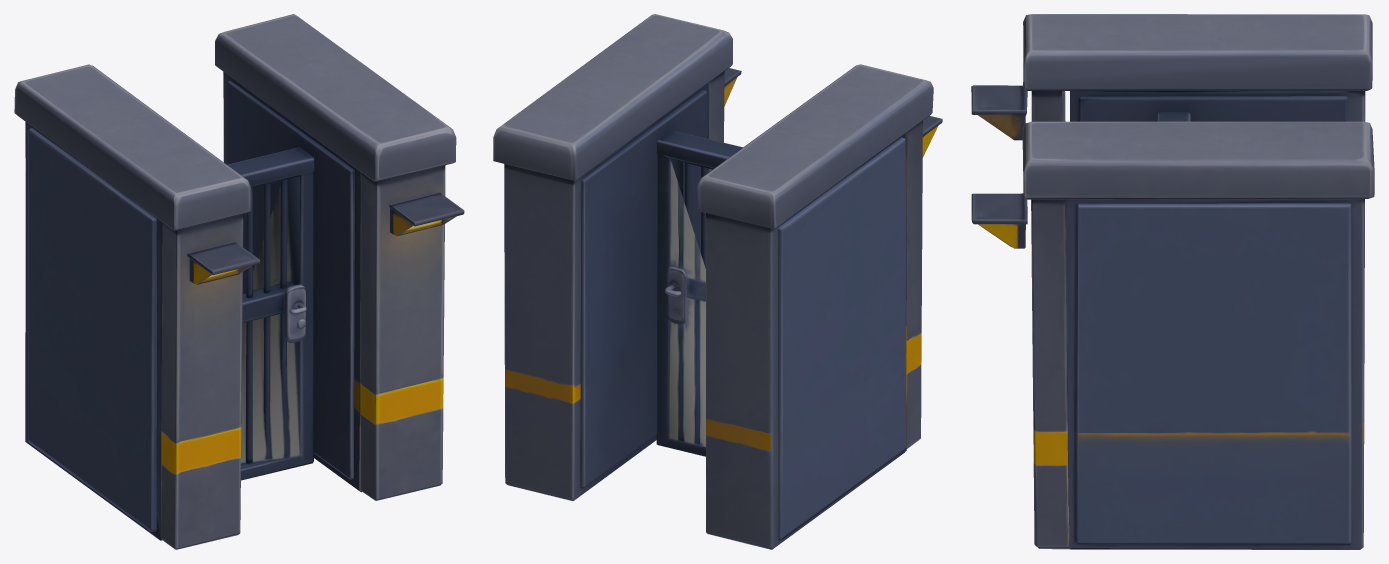
Rendered from pedestrian-gate.glb.
3 views of the same model, side by side, from view 1: azimuth 30°, elevation 25°; view 2: azimuth 150°, elevation 25°; view 3: azimuth 270°, elevation 25° (orthographic). The views are drawn at different scales.
Visible parts, largest first — view 1: geometry_0; view 2: geometry_0; view 3: geometry_0.
Part boxes in pixels (left/top/right/bottom): geometry_0: left=14, top=14, right=464, bottom=549; geometry_0: left=493, top=14, right=942, bottom=549; geometry_0: left=971, top=14, right=1374, bottom=549.
Bounding box in the file's own units: 0.8175 × 0.9997 × 0.9287.
1 material, 1 textured.
